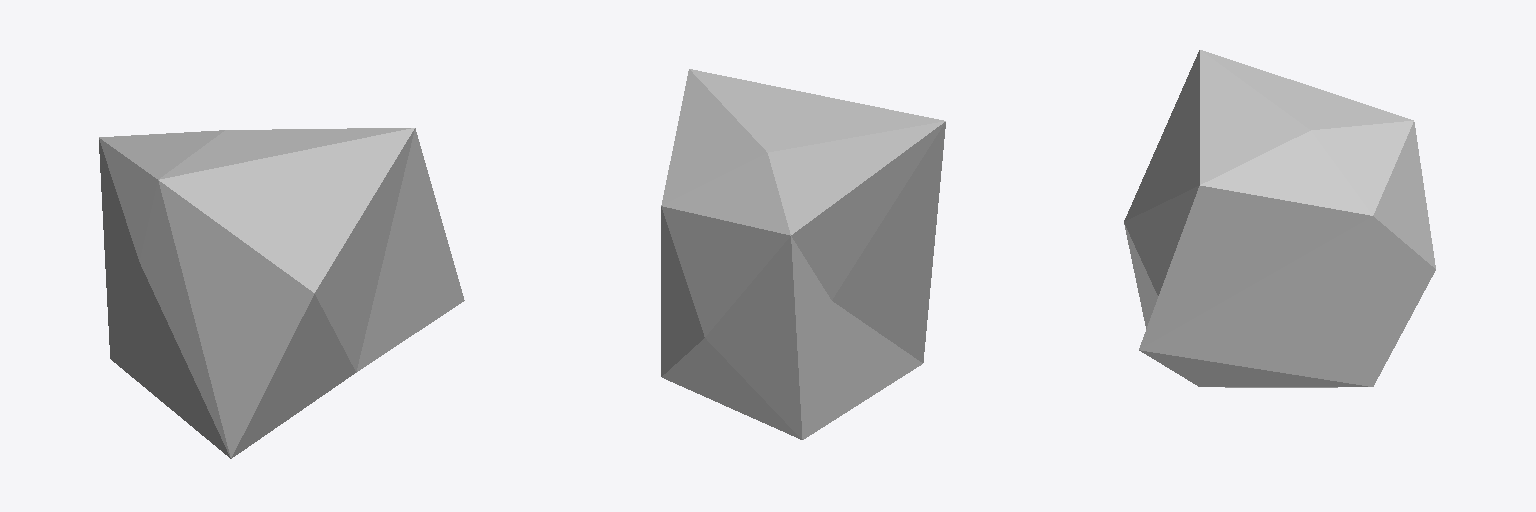
Rendered from 3PramBox.obj.
3 views of the same model, side by side, from view 1: azimuth 30°, elevation 25°; view 2: azimuth 150°, elevation 25°; view 3: azimuth 270°, elevation 25° (orthographic).
Visible parts, largest first — view 1: Cube_1; view 2: Cube_1; view 3: Cube_1.
Boxes of the visible parts, <box> form: Cube_1: <box>99,128,464,458</box>; Cube_1: <box>661,69,945,439</box>; Cube_1: <box>1124,50,1435,387</box>.
Size of the model in its own units: 2.48 by 2.39 by 2.43.